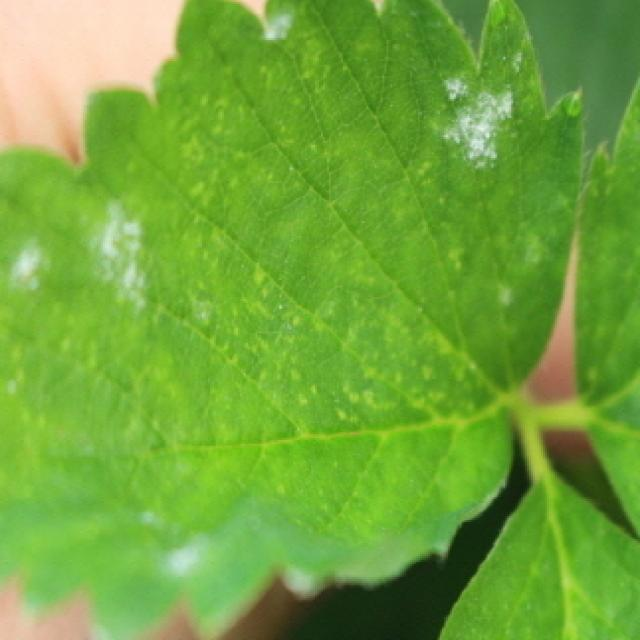Powdery Mildew Leaf: (0, 0, 586, 640)
